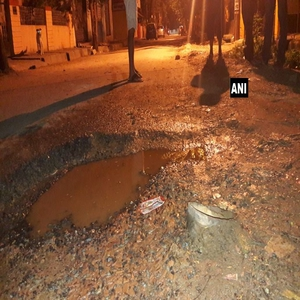pothole: (1, 125, 191, 251)
